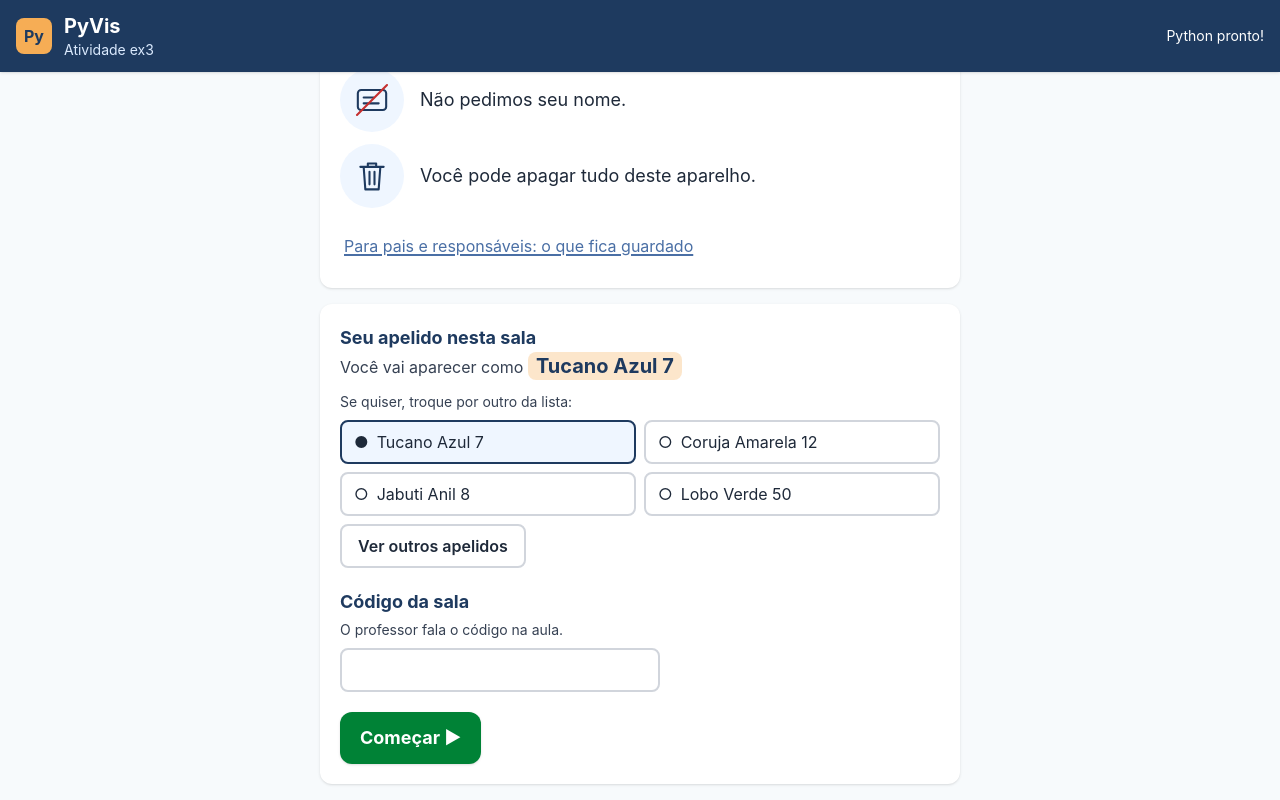
Scenario: atividade por link › um link sem sala aceita o código que o aluno digitar e passa a levar a sala
(page scrolled)
Expected: the text "Tucano Azul 7" is shown, [528,352,682,380]
Type "turma-8a" into the field labelled "Código da sala" at (500, 670), box [340,648,660,692]
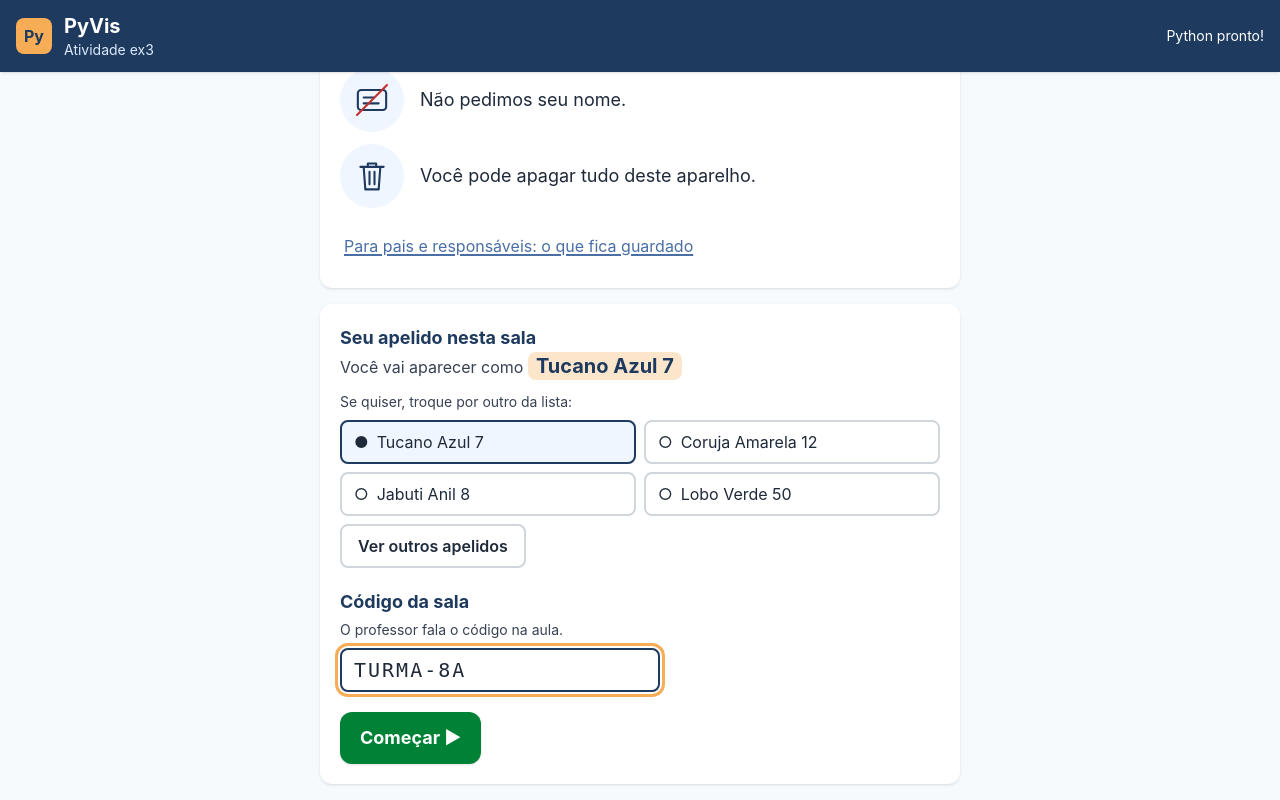
Click the button "Começar ▶" at (411, 738), box [340,712,482,764]
(page scrolled)
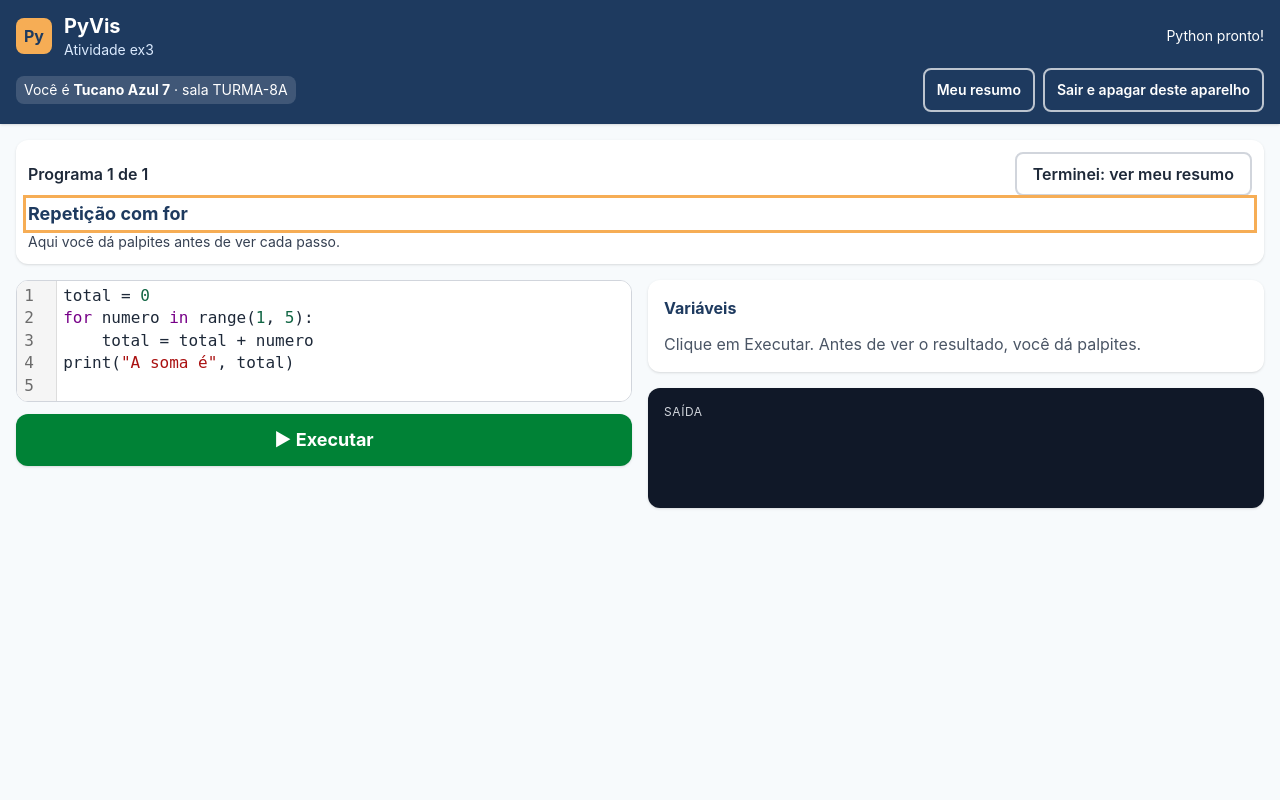
Result: the text "Programa 1 de 1" is shown at [28,162,148,186]
